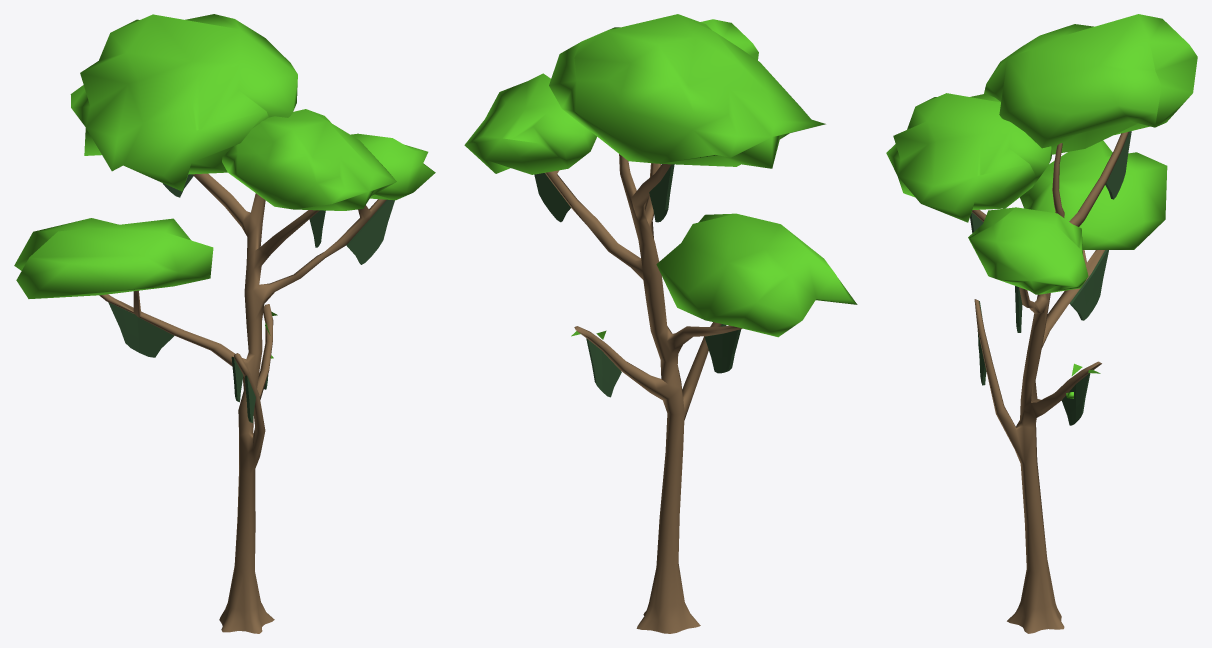
The model's file is swamp_aldertree.fbx.
3 views of the same model, side by side, from view 1: azimuth 30°, elevation 25°; view 2: azimuth 150°, elevation 25°; view 3: azimuth 270°, elevation 25° (orthographic). The views are drawn at different scales.
Visible parts, largest first — view 1: SwampTree_01_Canopy, SwampTree_01, SwampTree_01.001; view 2: SwampTree_01_Canopy, SwampTree_01, SwampTree_01.001; view 3: SwampTree_01_Canopy, SwampTree_01, SwampTree_01.001.
Boxes of the visible parts, x1,y1,x2,y2 form: SwampTree_01_Canopy: (14, 14, 435, 358); SwampTree_01: (99, 173, 386, 633); SwampTree_01.001: (108, 174, 394, 422); SwampTree_01_Canopy: (464, 14, 857, 339); SwampTree_01: (545, 154, 742, 633); SwampTree_01.001: (534, 164, 741, 397); SwampTree_01_Canopy: (886, 14, 1197, 398); SwampTree_01: (972, 131, 1128, 633); SwampTree_01.001: (970, 131, 1131, 425).
Bounding box in the file's own units: 7.6 × 11.38 × 5.48.
